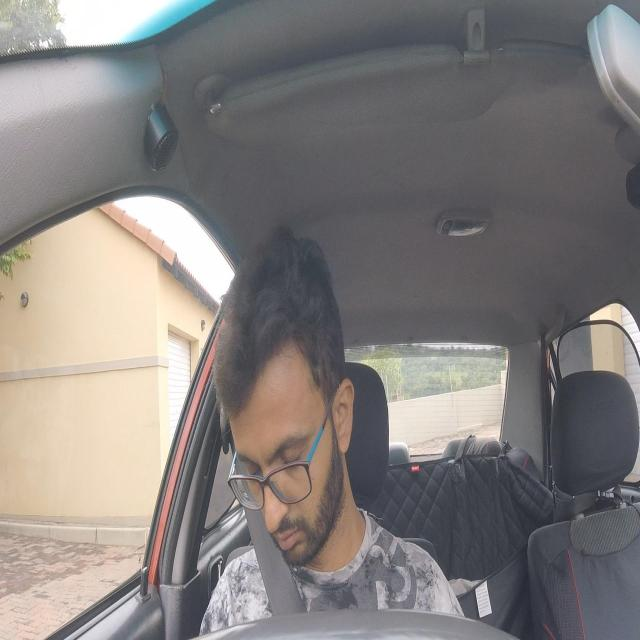close: (278, 433, 304, 475), (243, 454, 264, 489)
